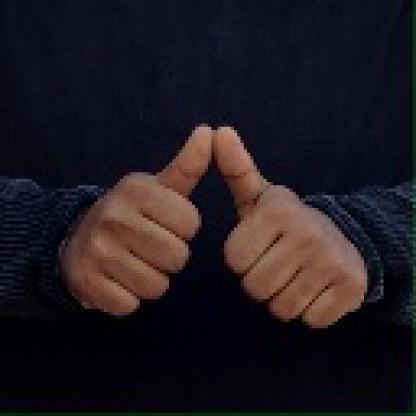A: (61, 124, 356, 332)
